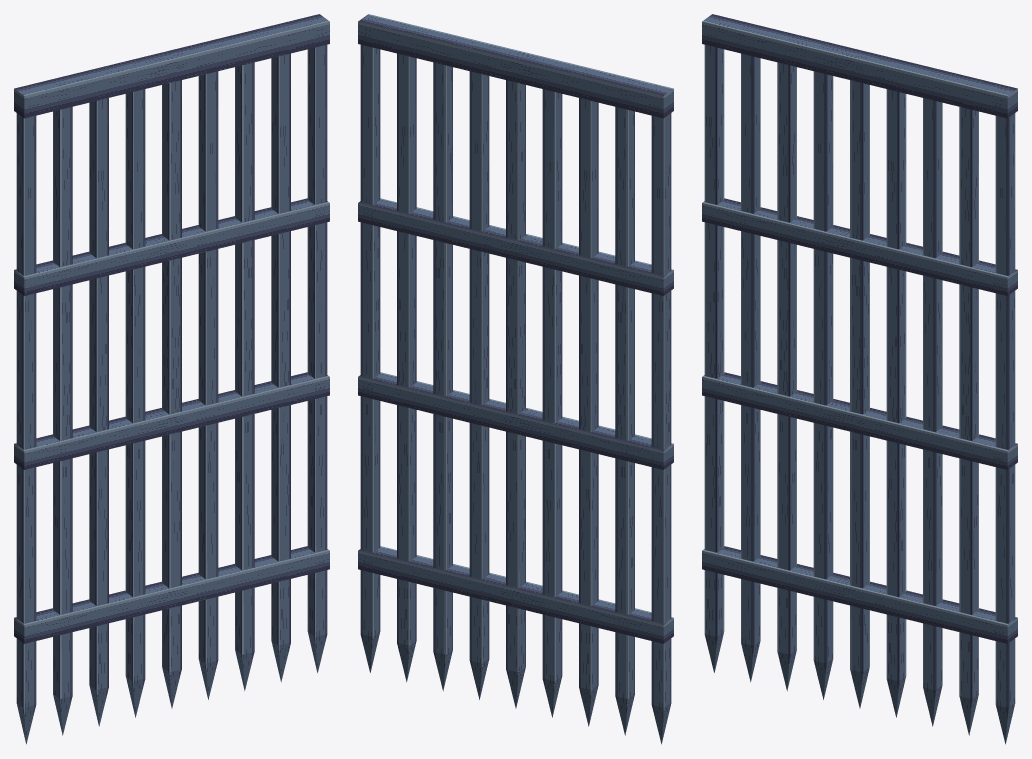
The model's file is gitter_breit.glb.
3 renders of one model, left to right at view 1: azimuth 30°, elevation 25°; view 2: azimuth 150°, elevation 25°; view 3: azimuth 330°, elevation 25°, orthographic.
Visible parts, largest first — view 1: gitter_breit; view 2: gitter_breit; view 3: gitter_breit.
Boxes of the visible parts, <box> form: gitter_breit: <box>14,14,329,744</box>; gitter_breit: <box>358,14,673,744</box>; gitter_breit: <box>702,14,1017,744</box>.
Size of the model in its own units: 1.71 by 3.5 by 0.1.
Materials: 1 (1 with a texture image).
